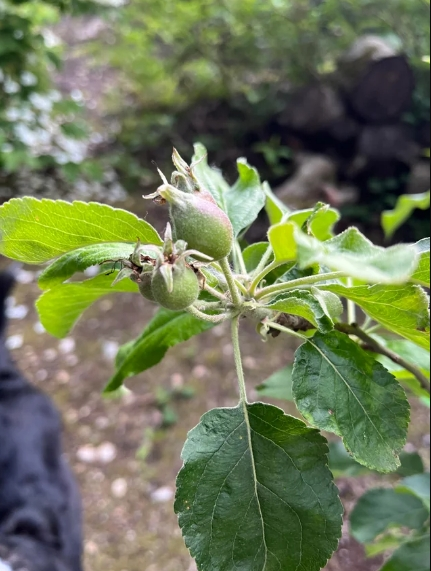apple/: (112, 186, 242, 317)
